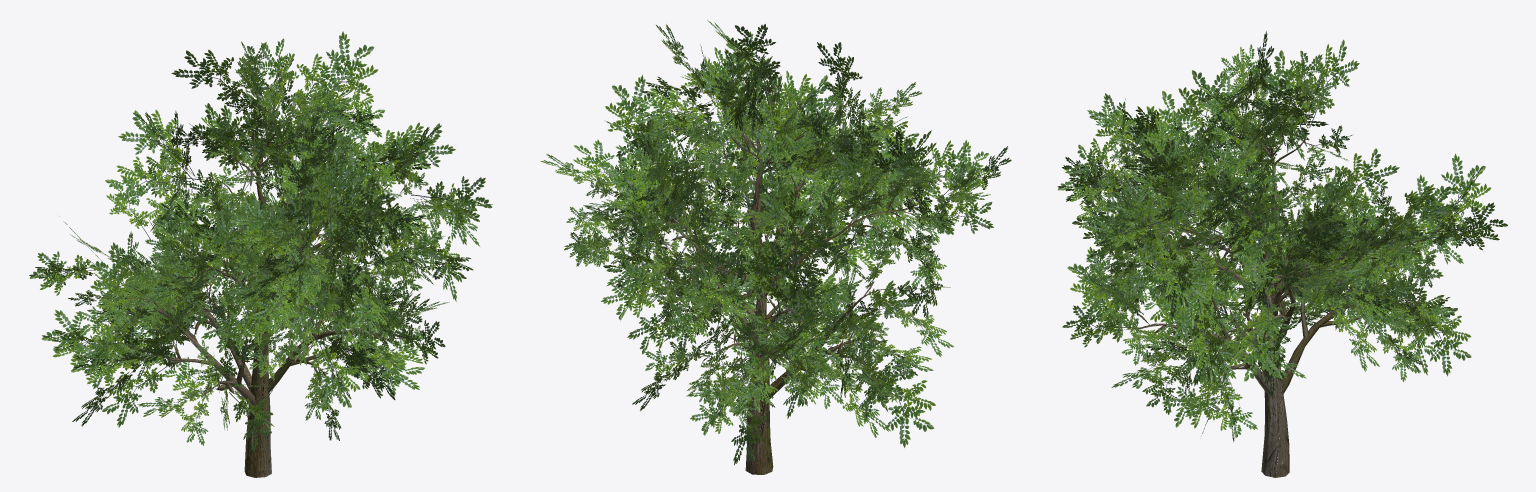
The model's file is baum_laub_2_lod1.glb.
3 renders of one model, left to right at view 1: azimuth 30°, elevation 25°; view 2: azimuth 150°, elevation 25°; view 3: azimuth 270°, elevation 25°, orthographic.
Visible parts, largest first — view 1: Krone, Stamm; view 2: Krone, Stamm; view 3: Krone, Stamm.
Boxes of the visible parts, left/top/right/bottom form: Krone: left=29, top=31, right=492, bottom=451; Stamm: left=108, top=96, right=427, bottom=477; Krone: left=540, top=20, right=1011, bottom=465; Stamm: left=600, top=79, right=952, bottom=474; Krone: left=1057, top=31, right=1507, bottom=442; Stamm: left=1109, top=98, right=1444, bottom=477.
Size of the model in its own units: 10.72 by 11.26 by 10.77.
Materials: 2 (2 with a texture image).
